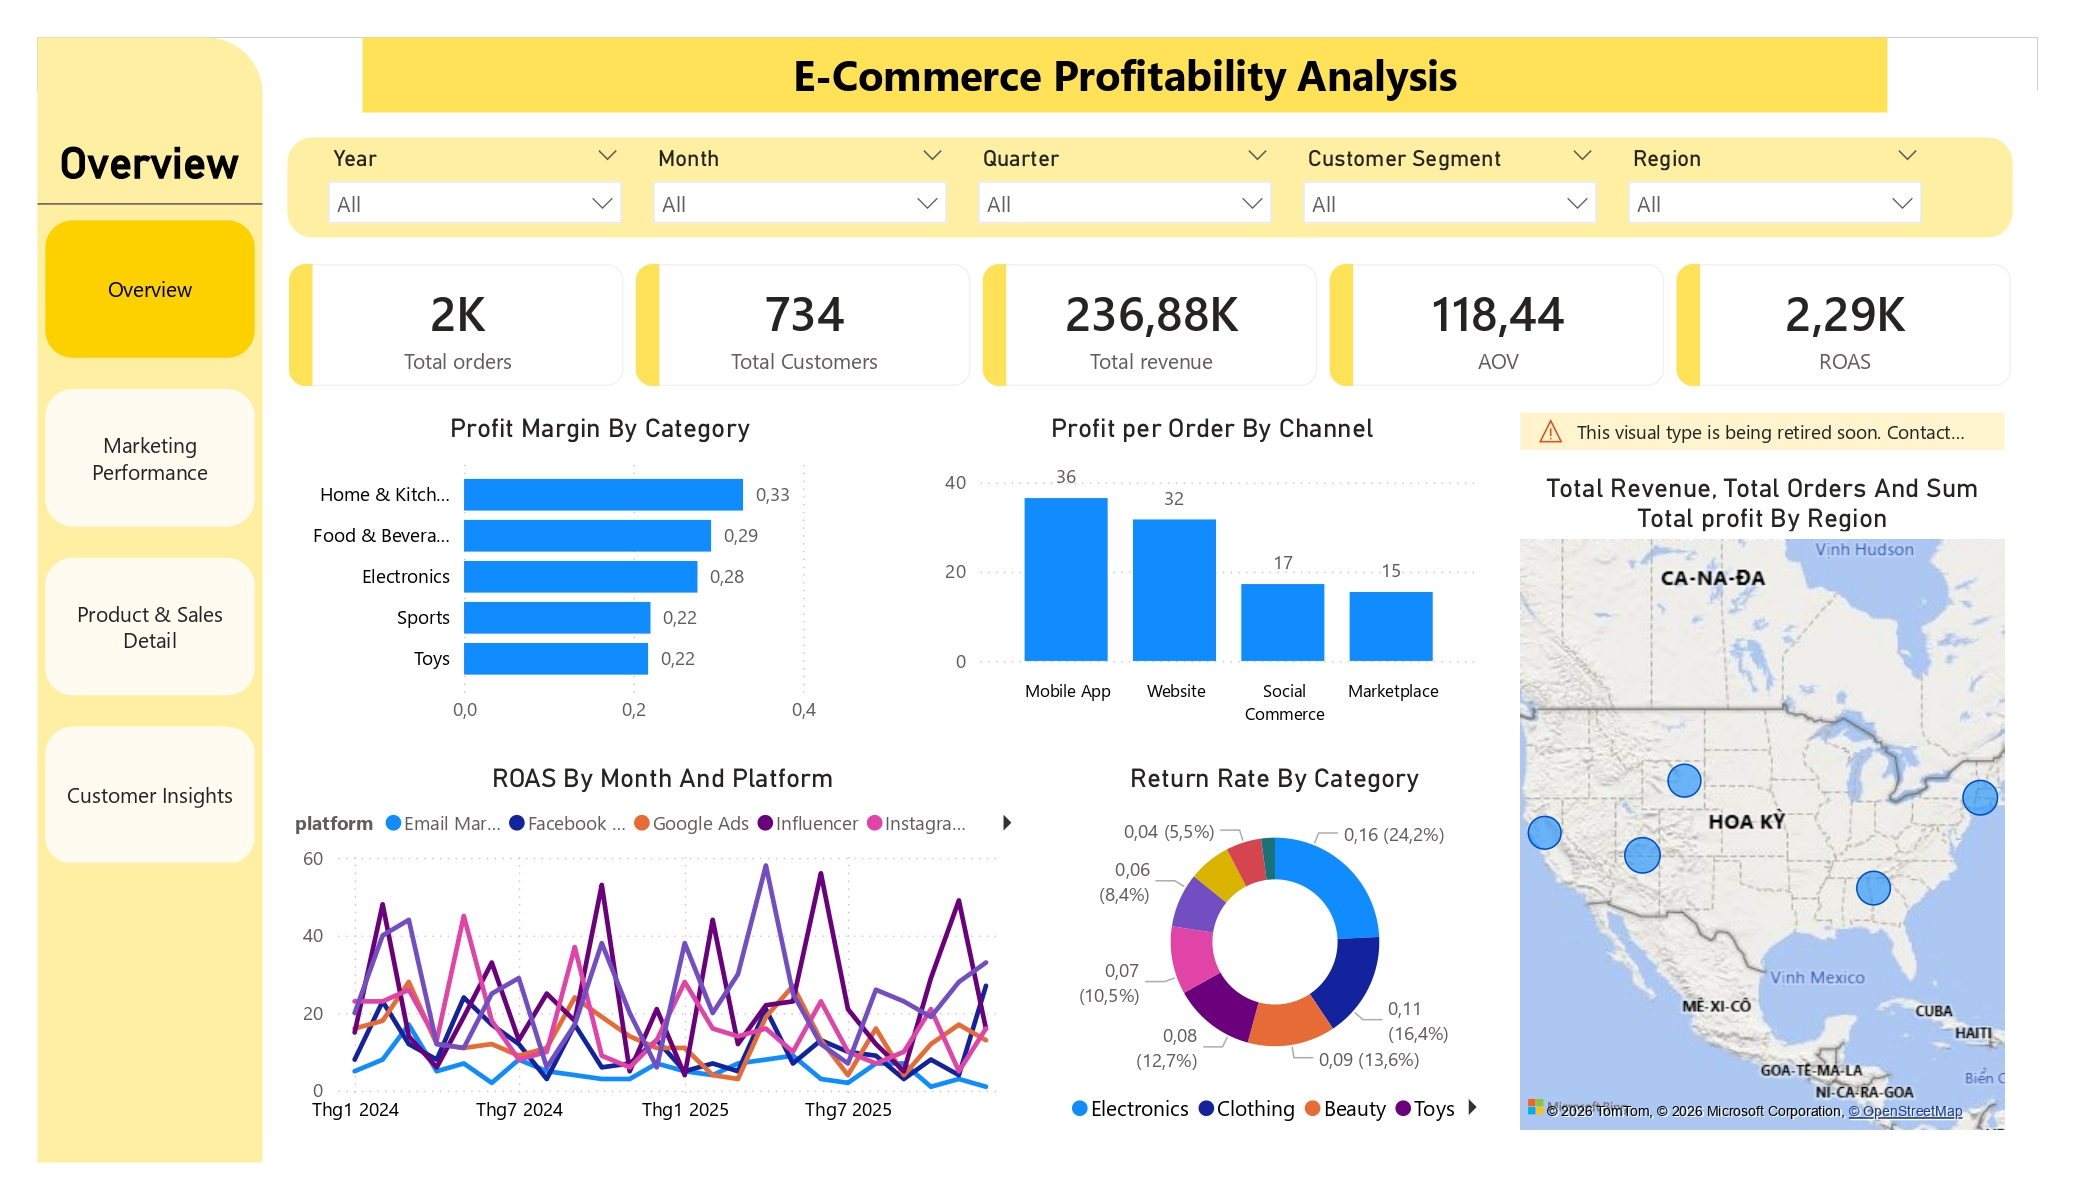

What the dashboard file says about the page in this screenshot:
{"tool":"powerbi","page":{"name":"Overview","canvas":[1280,720],"ordinal":0},"visuals":[{"type":"textbox","box":[208,0,976,48],"z":0},{"type":"shape","box":[0,0,144,720],"z":1000},{"type":"shape","box":[160,64,1104,64],"z":2000},{"type":"cardVisual","fields":{"Data":["Count(dim_order.order_id)","Count(dim_customer.customer_id)","Sum(fact_order_details.net_revenue)","fact_order_details.AOV","Sum(fact_marketing.roas)"]},"box":[144,128,1136,112],"z":3000},{"type":"clusteredBarChart","title":"Profit Margin By Category","fields":{"Category":["dim_products.category"],"Y":["fact_order_details.Profit Margin"]},"box":[160,240,400,208],"z":4000},{"type":"clusteredColumnChart","title":"Profit per Order By Channel","fields":{"Category":["dim_order.channel"],"Y":["fact_order_details.Profit per Order"]},"box":[576,240,352,208],"z":5000},{"type":"map","title":"Total Revenue, Total Orders And Sum Total profit By Region","fields":{"Category":["dim_order.region"],"Size":["fact_order_details.Total Revenue"]},"box":[944,240,320,464],"z":6000},{"type":"lineChart","title":"ROAS By Month And Platform","fields":{"Category":["fact_marketing.month"],"Series":["fact_marketing.platform"],"Y":["Sum(fact_marketing.roas)"]},"box":[160,464,480,240],"z":7000},{"type":"donutChart","title":"Return Rate By Category","fields":{"Category":["dim_products.category"],"Y":["fact_order_details.Return Rate"]},"box":[656,464,272,240],"z":8000},{"type":"slicer","fields":{"Values":["Calendar.Date.Variation.Date Hierarchy.Year"]},"box":[176,64,208,80],"z":9000},{"type":"slicer","fields":{"Values":["Calendar.Month"]},"box":[384,64,208,80],"z":10000},{"type":"slicer","fields":{"Values":["Calendar.Date.Variation.Date Hierarchy.Quarter"]},"box":[592,64,208,80],"z":11000},{"type":"slicer","fields":{"Values":["dim_customer.Customer Segment"]},"box":[800,64,208,80],"z":12000},{"type":"slicer","fields":{"Values":["dim_order.region"]},"box":[1008,64,208,80],"z":13000},{"type":"pageNavigator","title":"Overview","box":[0,64,144,464],"z":14000}]}

Visuals, with their boxes on the page's 1280x720 design canvas (x1, y1, x2, y2). These are canvas units, not pixel positions in the 2075x1200 screenshot, which may show the page scaled, cropped or inside an application window:
textbox: box(208, 0, 1184, 48)
shape: box(0, 0, 144, 720)
shape: box(160, 64, 1264, 128)
cardVisual - Count(dim_order.order_id) x Count(dim_customer.customer_id): box(144, 128, 1280, 240)
"Profit Margin By Category" clusteredBarChart: box(160, 240, 560, 448)
"Profit per Order By Channel" clusteredColumnChart: box(576, 240, 928, 448)
"Total Revenue, Total Orders And Sum Total profit By Region" map: box(944, 240, 1264, 704)
"ROAS By Month And Platform" lineChart: box(160, 464, 640, 704)
"Return Rate By Category" donutChart: box(656, 464, 928, 704)
slicer - Calendar.Date.Variation.Date Hierarchy.Year: box(176, 64, 384, 144)
slicer - Calendar.Month: box(384, 64, 592, 144)
slicer - Calendar.Date.Variation.Date Hierarchy.Quarter: box(592, 64, 800, 144)
slicer - dim_customer.Customer Segment: box(800, 64, 1008, 144)
slicer - dim_order.region: box(1008, 64, 1216, 144)
"Overview" pageNavigator: box(0, 64, 144, 528)
